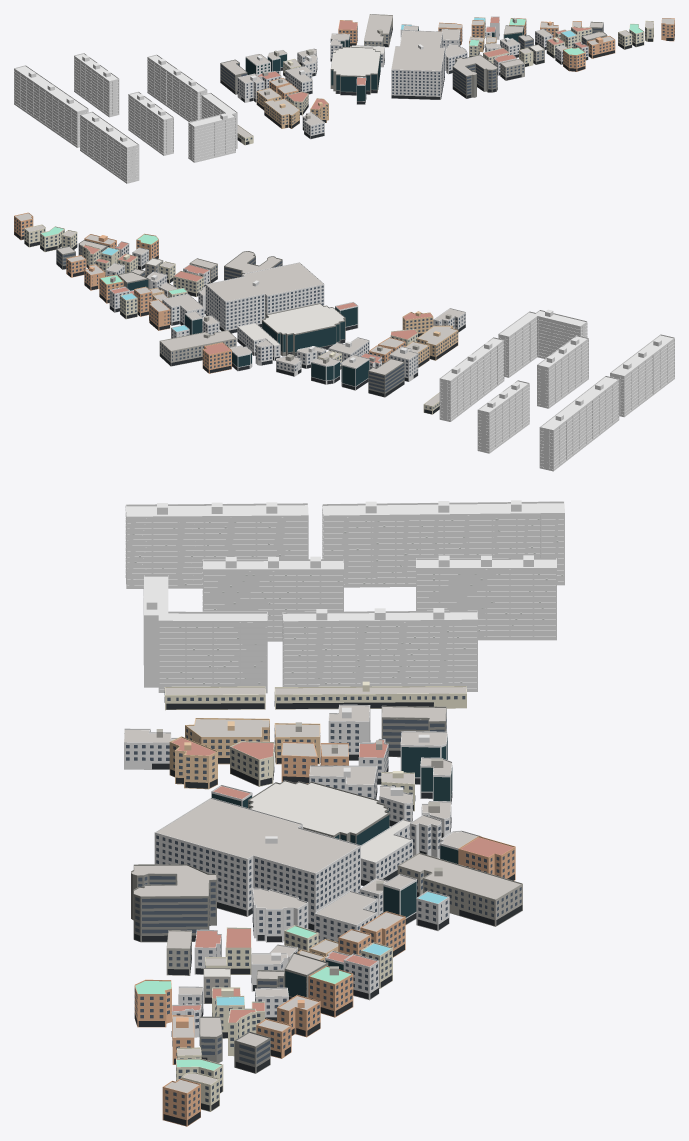
The picture shows the model from 3 angles, top to bottom: view 1: azimuth 30°, elevation 25°; view 2: azimuth 150°, elevation 25°; view 3: azimuth 270°, elevation 25°; orthographic projection. The views are drawn at different scales.
Visible parts, largest first — view 1: a3_n; view 2: a3_n; view 3: a3_n.
Boxes of the visible parts, x1,y1,x2,y2 form: a3_n: [14, 14, 674, 183]; a3_n: [14, 212, 674, 471]; a3_n: [124, 500, 564, 1126].
Size of the model in its own units: 576 by 37.6 by 194.
